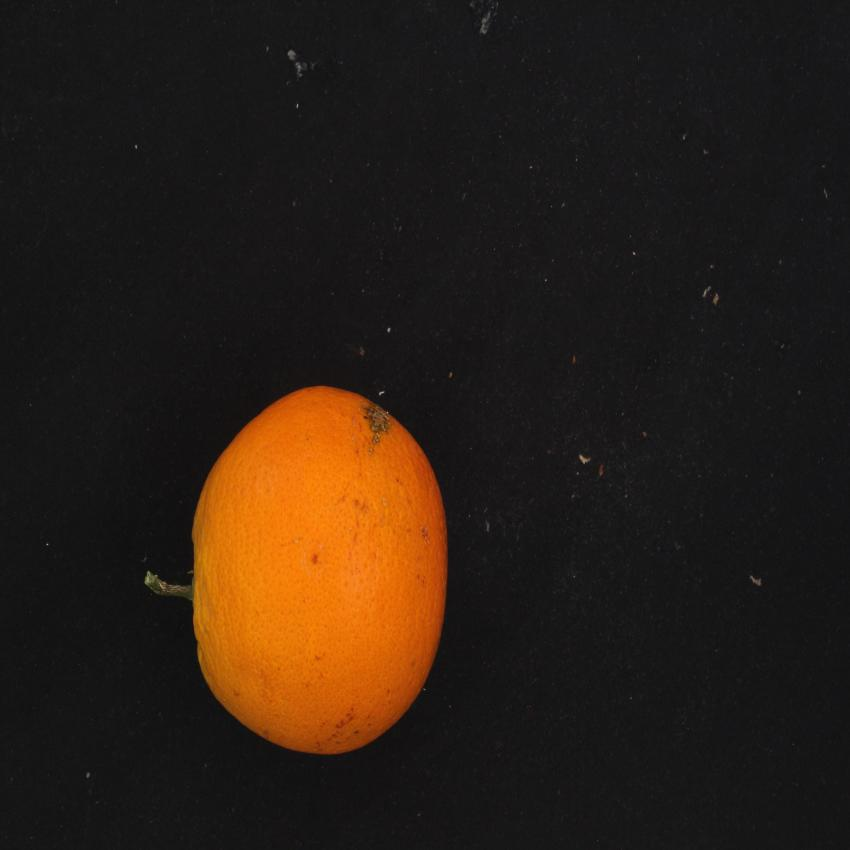Buen estado: (182, 379, 476, 772)
